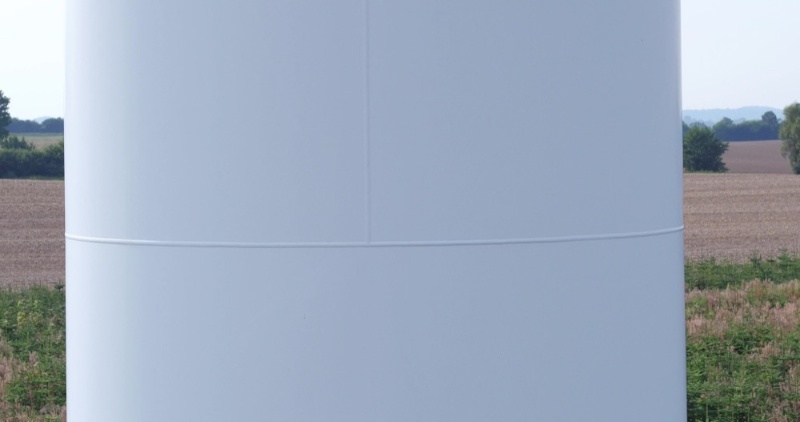weldseam: (64, 220, 686, 252), (358, 1, 374, 249)
